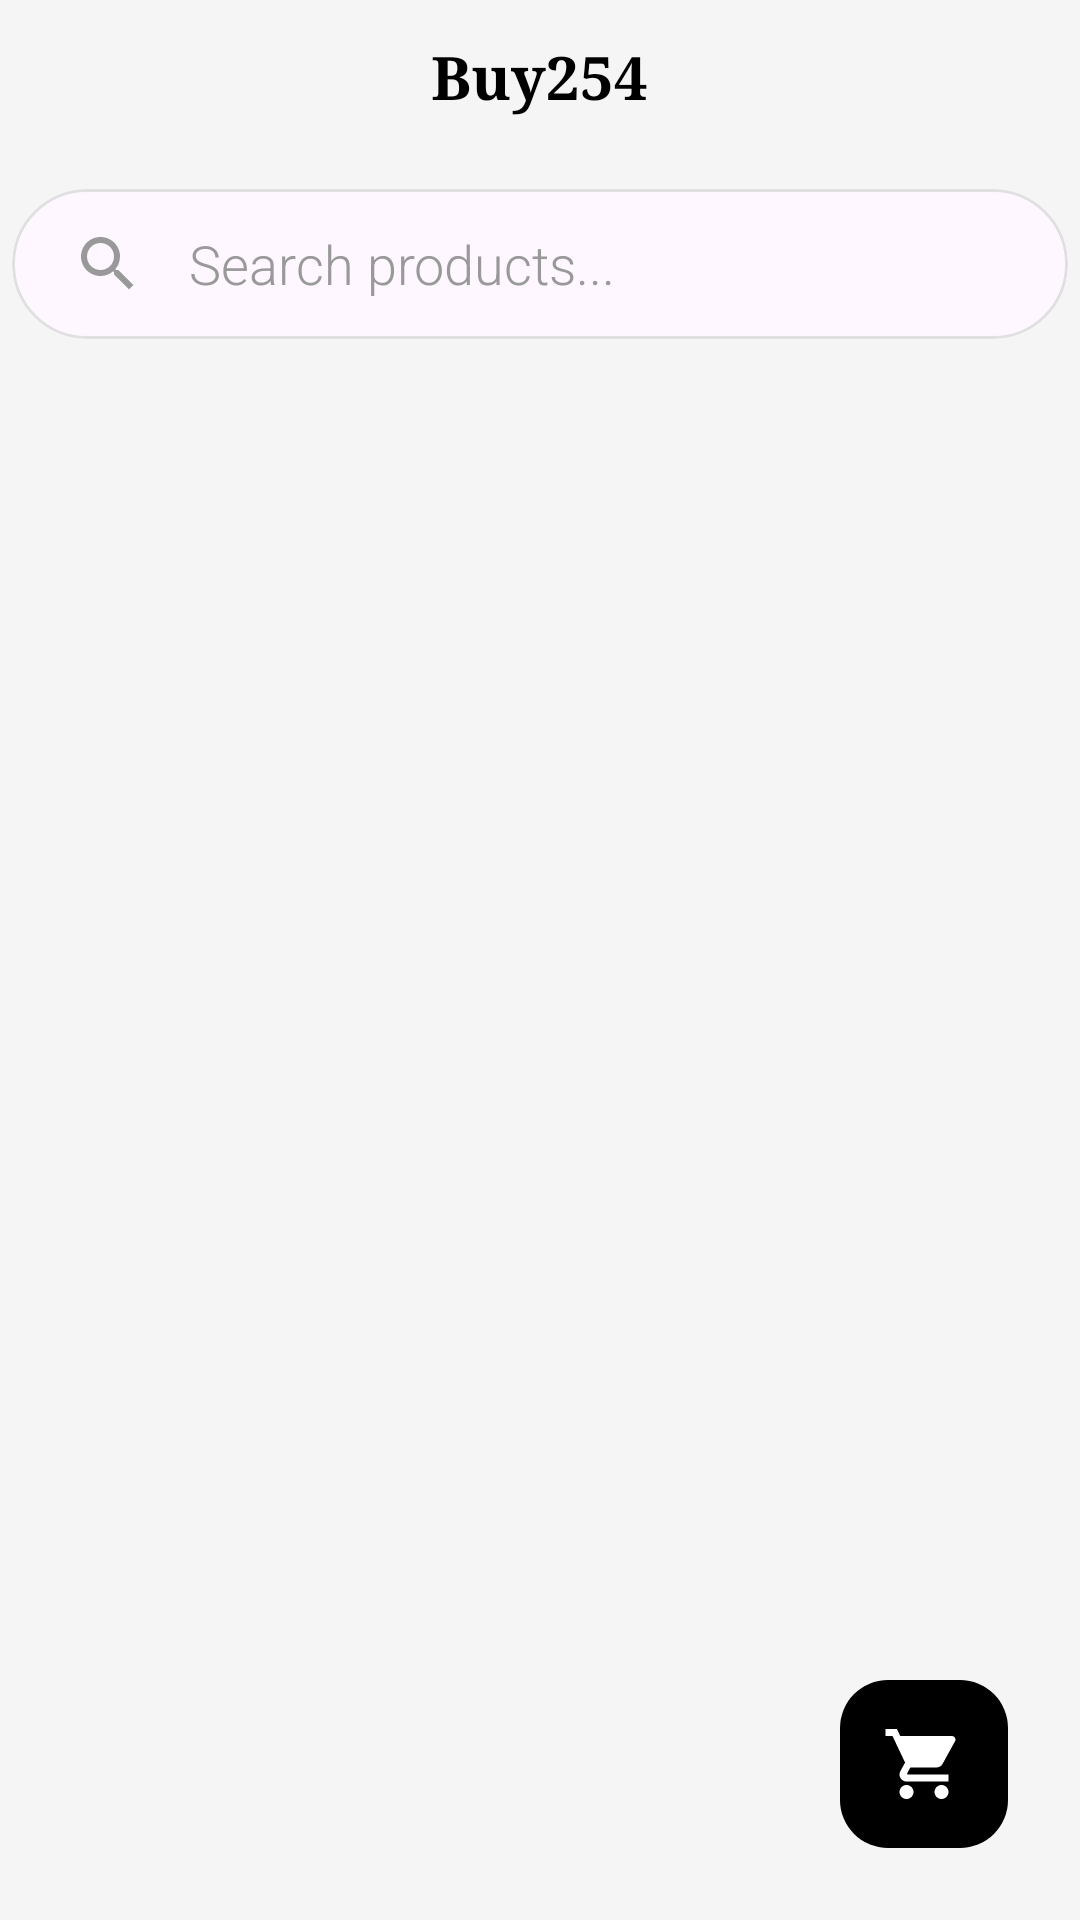

Locate icon controls on the screen. Image size 1080 x 1920, boxes as (x1, y1, x2, y2).
View Cart: (840, 1680, 1008, 1848)
